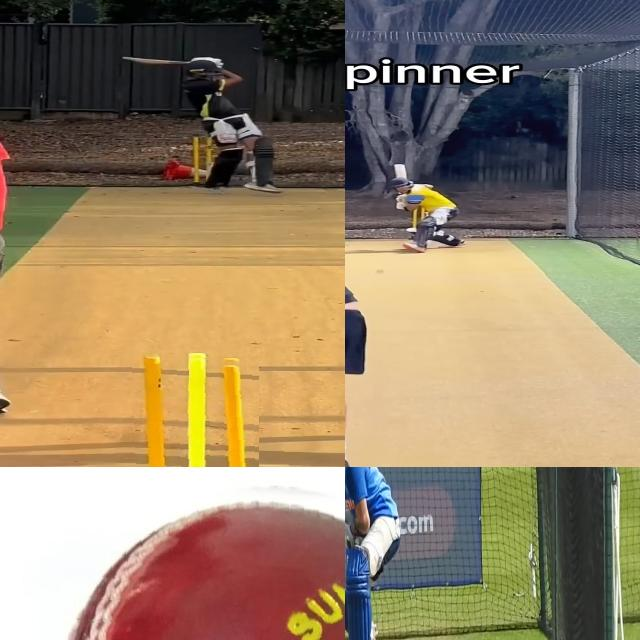Cricket ball: (40, 470, 345, 640), (375, 267, 386, 274)
Stumps: (123, 353, 258, 467)
